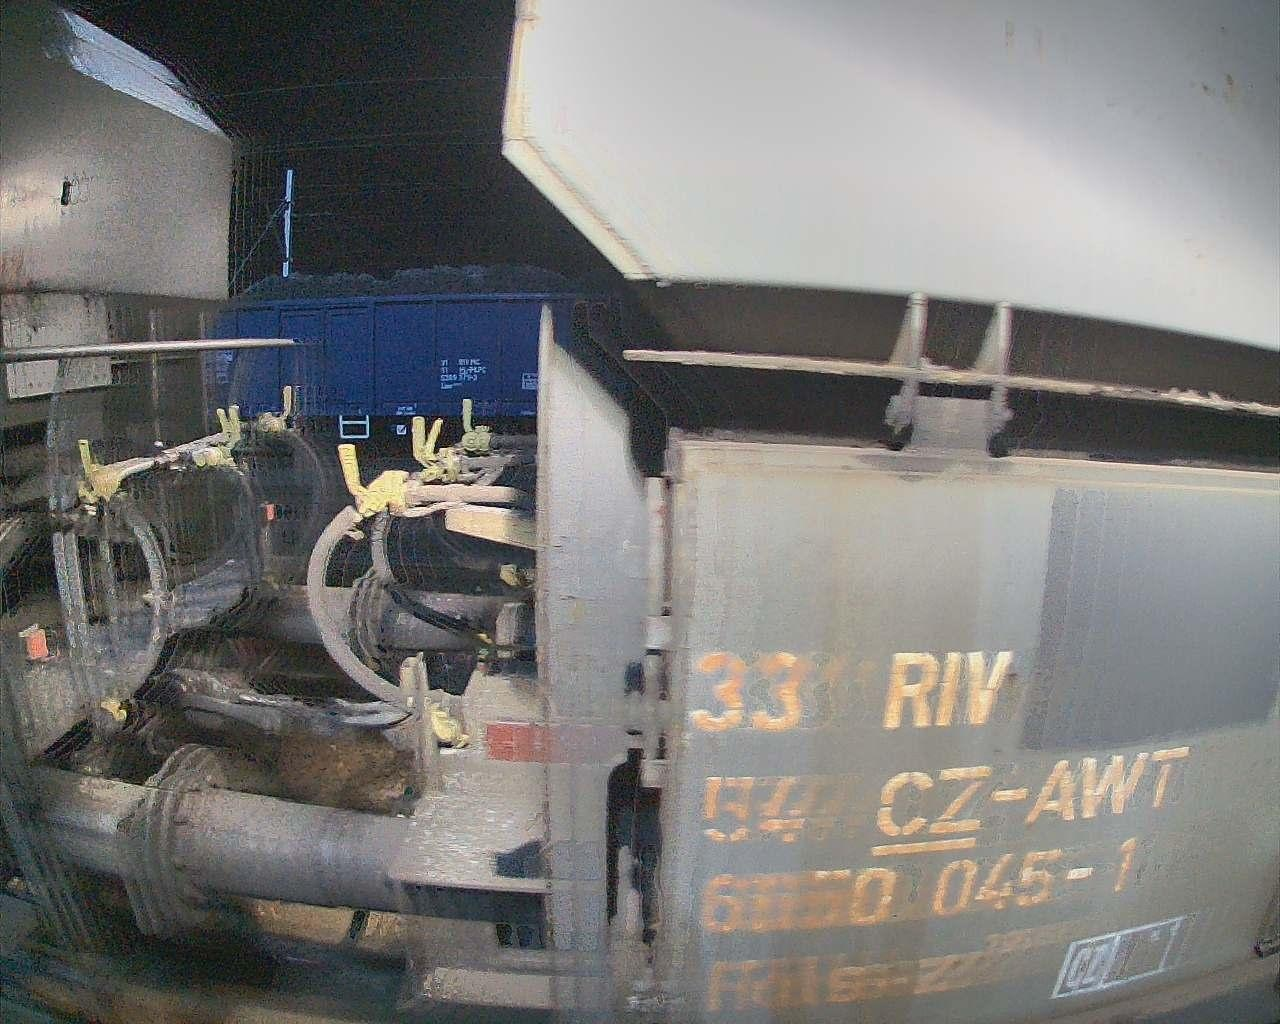UIC: (684, 646, 1196, 1016)
